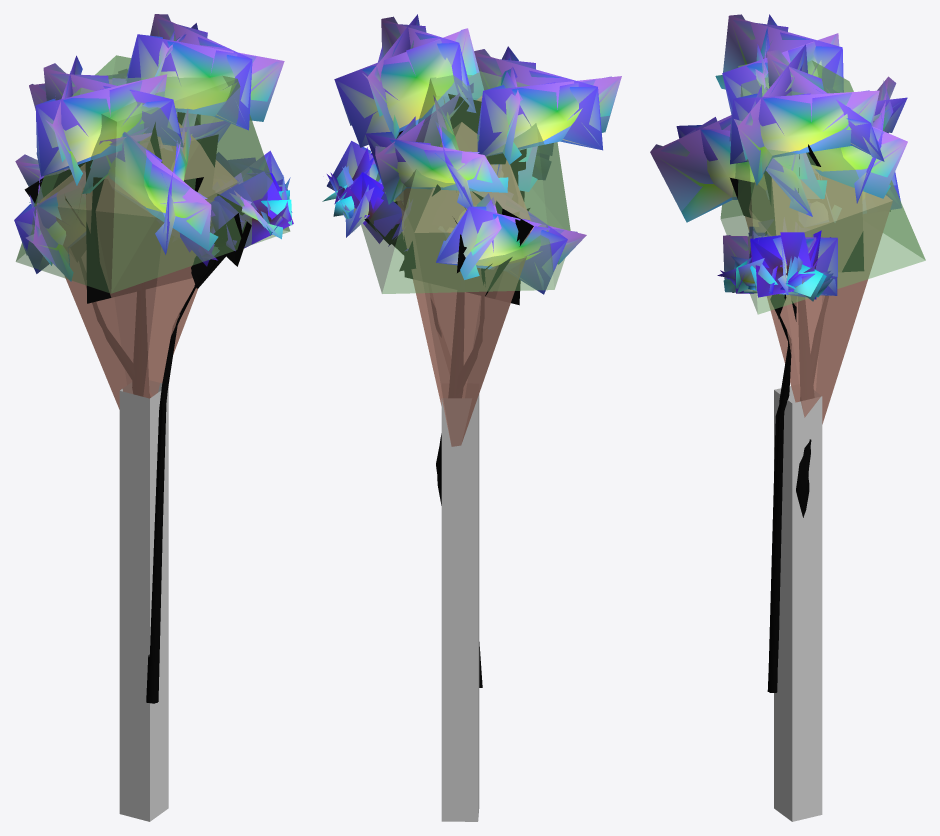
Rendered from cork_oak_filler_small.dae.
3 renders of one model, left to right at view 1: azimuth 30°, elevation 25°; view 2: azimuth 150°, elevation 25°; view 3: azimuth 270°, elevation 25°, orthographic.
Parts seen in each view (by area): view 1: Colmesh-1, cork_oak_filler_small_a1200, cork_oak_filler_small_a250; view 2: Colmesh-1, cork_oak_filler_small_a1200, cork_oak_filler_small_a250; view 3: Colmesh-1, cork_oak_filler_small_a1200, cork_oak_filler_small_a250.
Part boxes in pixels (left/top/right/bottom): Colmesh-1: left=16, top=55, right=290, bottom=821; cork_oak_filler_small_a1200: left=14, top=14, right=293, bottom=703; cork_oak_filler_small_a250: left=14, top=14, right=291, bottom=702; Colmesh-1: left=361, top=71, right=570, bottom=821; cork_oak_filler_small_a1200: left=322, top=14, right=621, bottom=687; cork_oak_filler_small_a250: left=327, top=14, right=621, bottom=677; Colmesh-1: left=720, top=60, right=925, bottom=821; cork_oak_filler_small_a1200: left=650, top=14, right=907, bottom=692; cork_oak_filler_small_a250: left=650, top=15, right=907, bottom=691.
Bounding box in the file's own units: 4.3 × 3.9 × 11.95.
